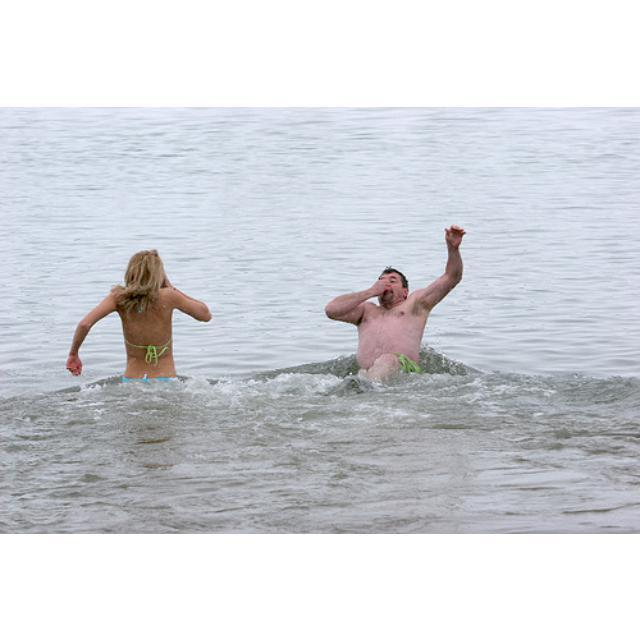human: (324, 226, 466, 382), (68, 248, 212, 387)
